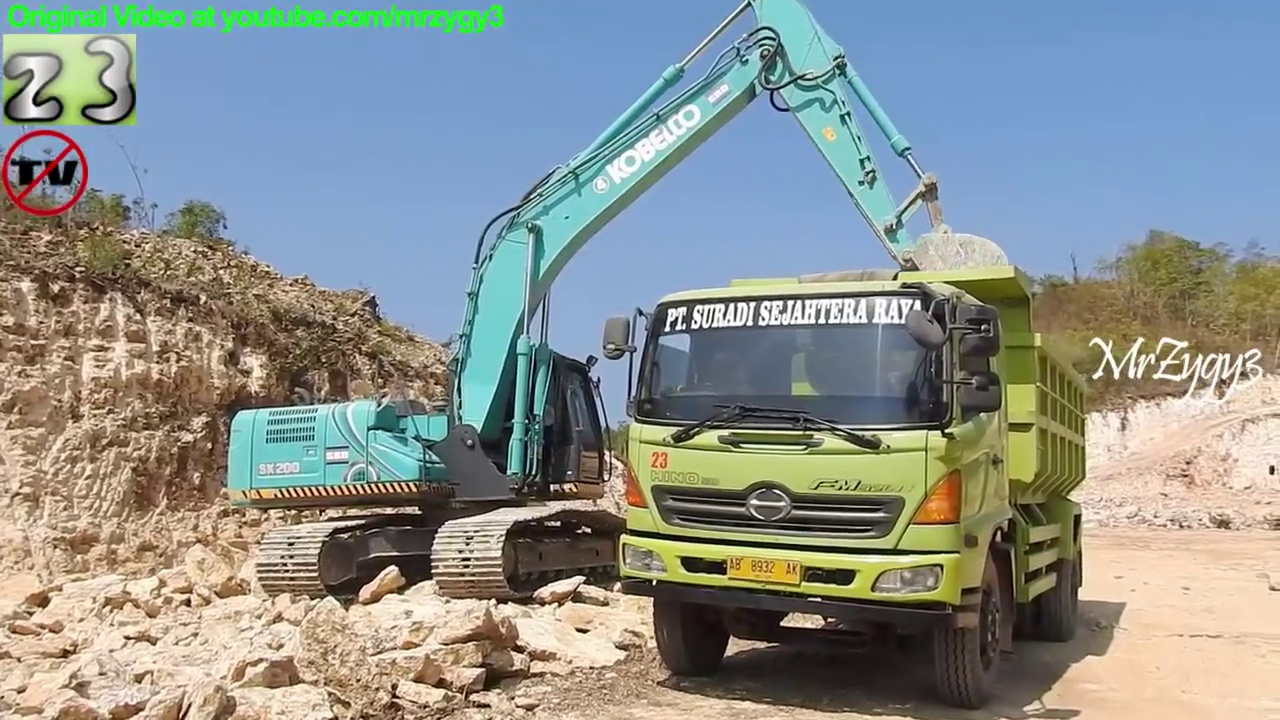excavator: (222, 1, 1038, 607)
truck: (596, 262, 1096, 710)
